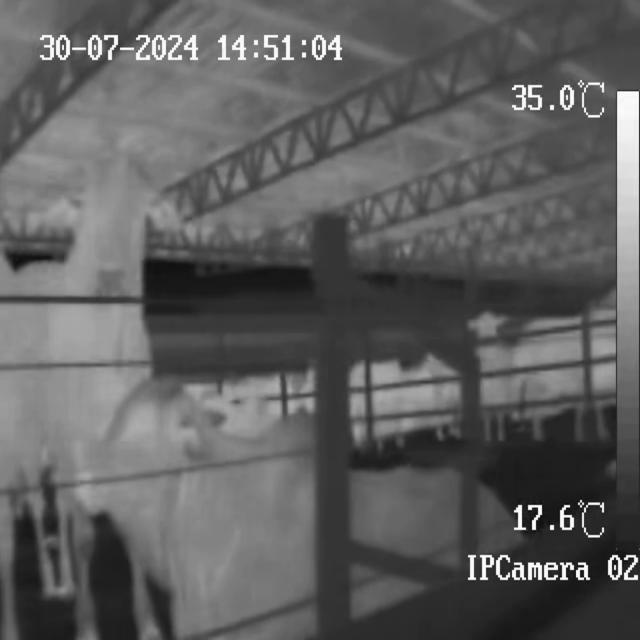eye: (128, 407, 154, 442)
head: (75, 370, 185, 524), (76, 161, 150, 301)
